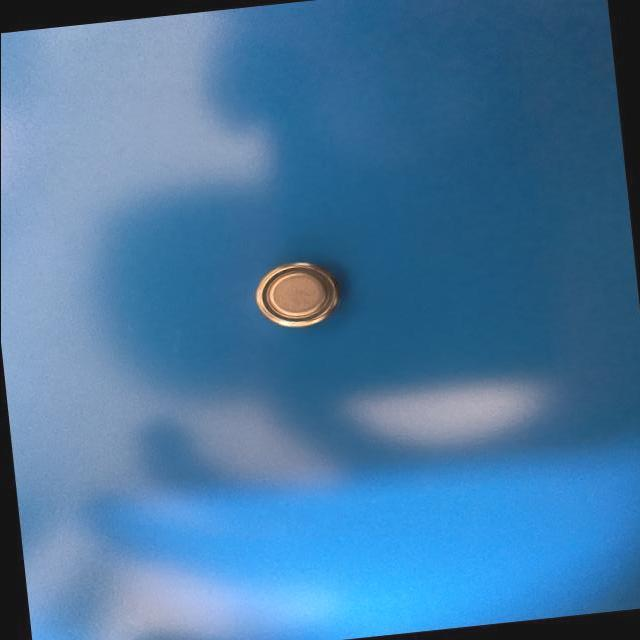COIN: (251, 256, 348, 331)
